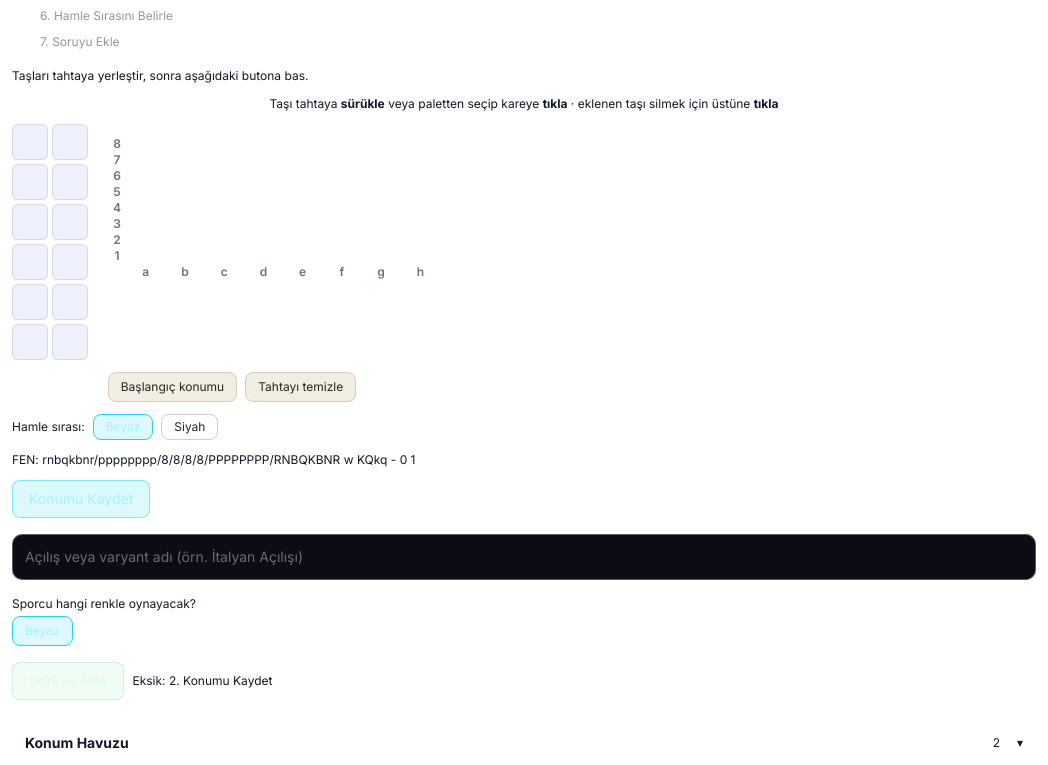
TeoriPratigiPoolView — havuz kartı (Kazanç Konumu ile AYNI desen) › karta tıklayınca kod kartları açılır
(page scrolled)
Click the text "Konum Havuzu" at (77, 742), box [25,734,129,751]
(page scrolled)
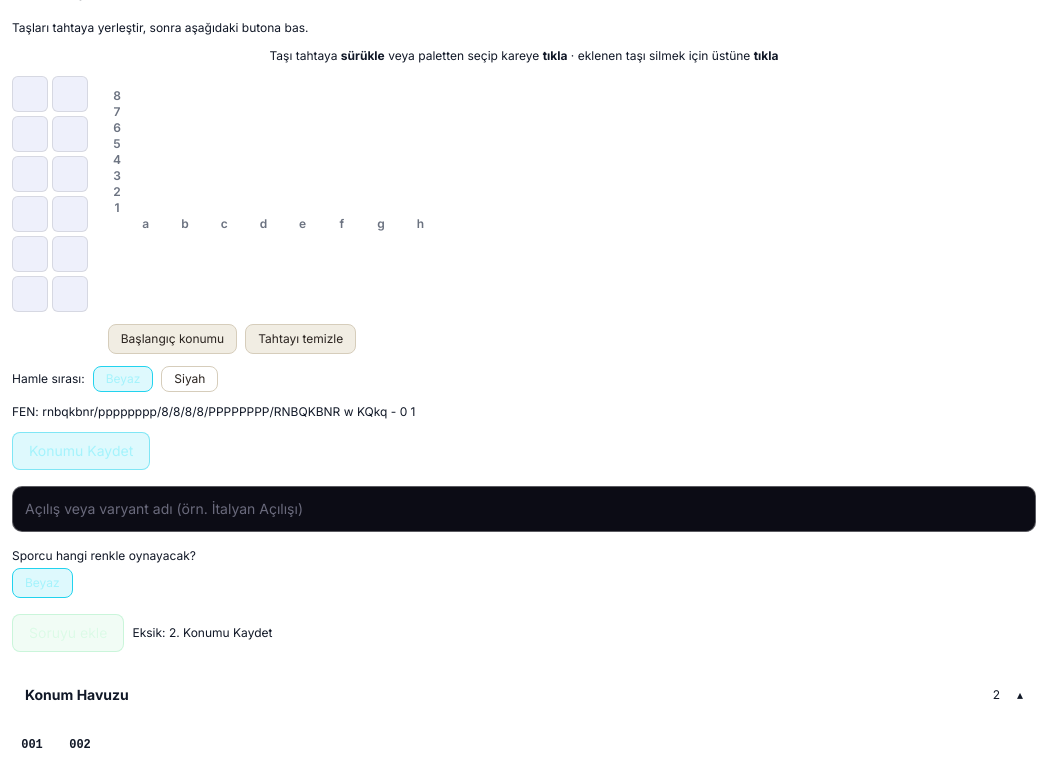
Expected: the button named "Soru 001" is shown, [12,725,52,764]
Expected: the button named "Soru 002" is shown, [60,725,100,764]
